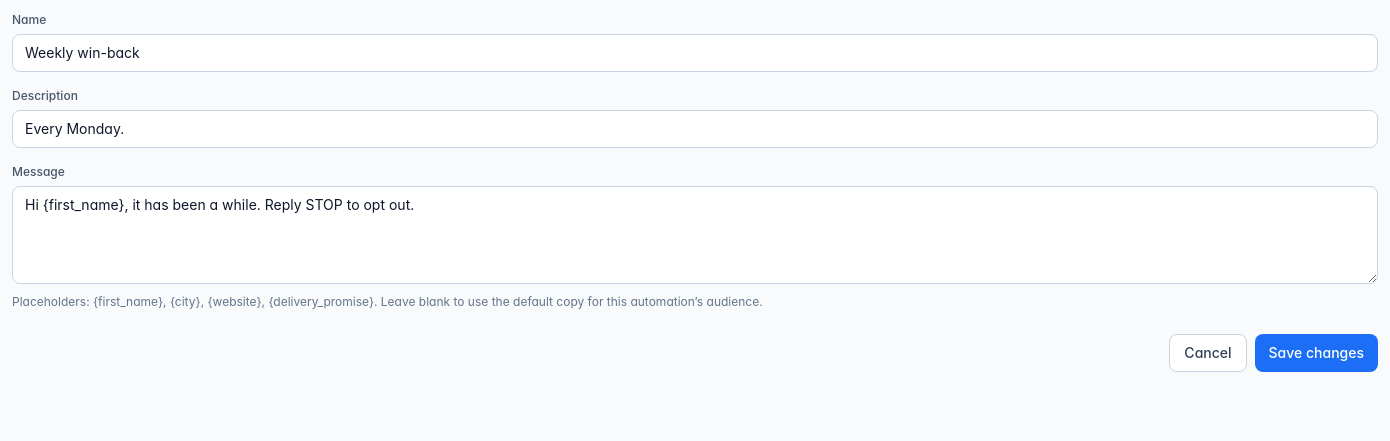
AutomationEditor › surfaces a rejected save rather than closing as if it worked
Click the button "Save changes".
click(1316, 353)  # box [1254,334,1378,372]
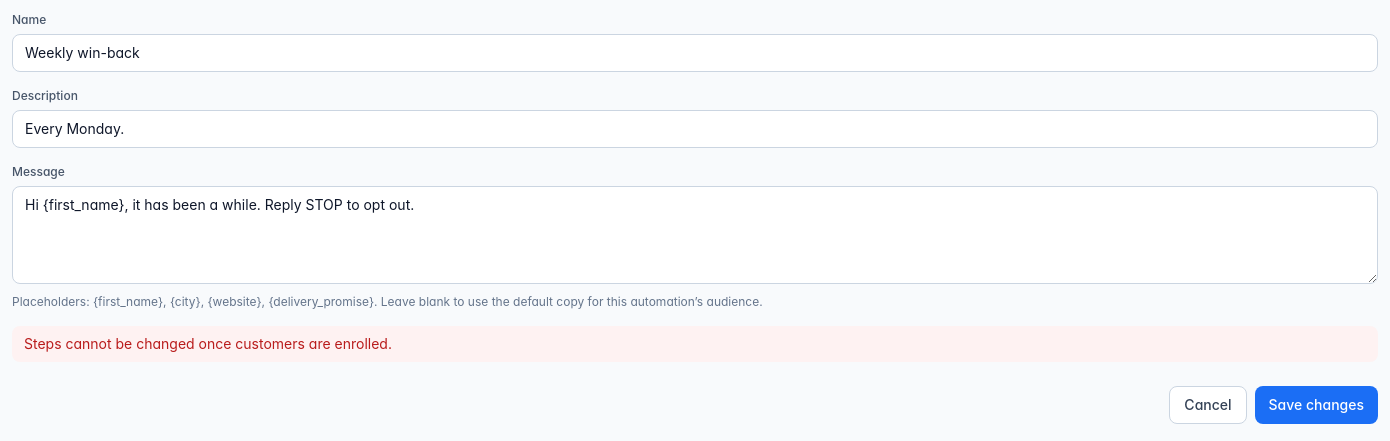
Expected: the message shows "cannot be changed", [24,335,392,352]
